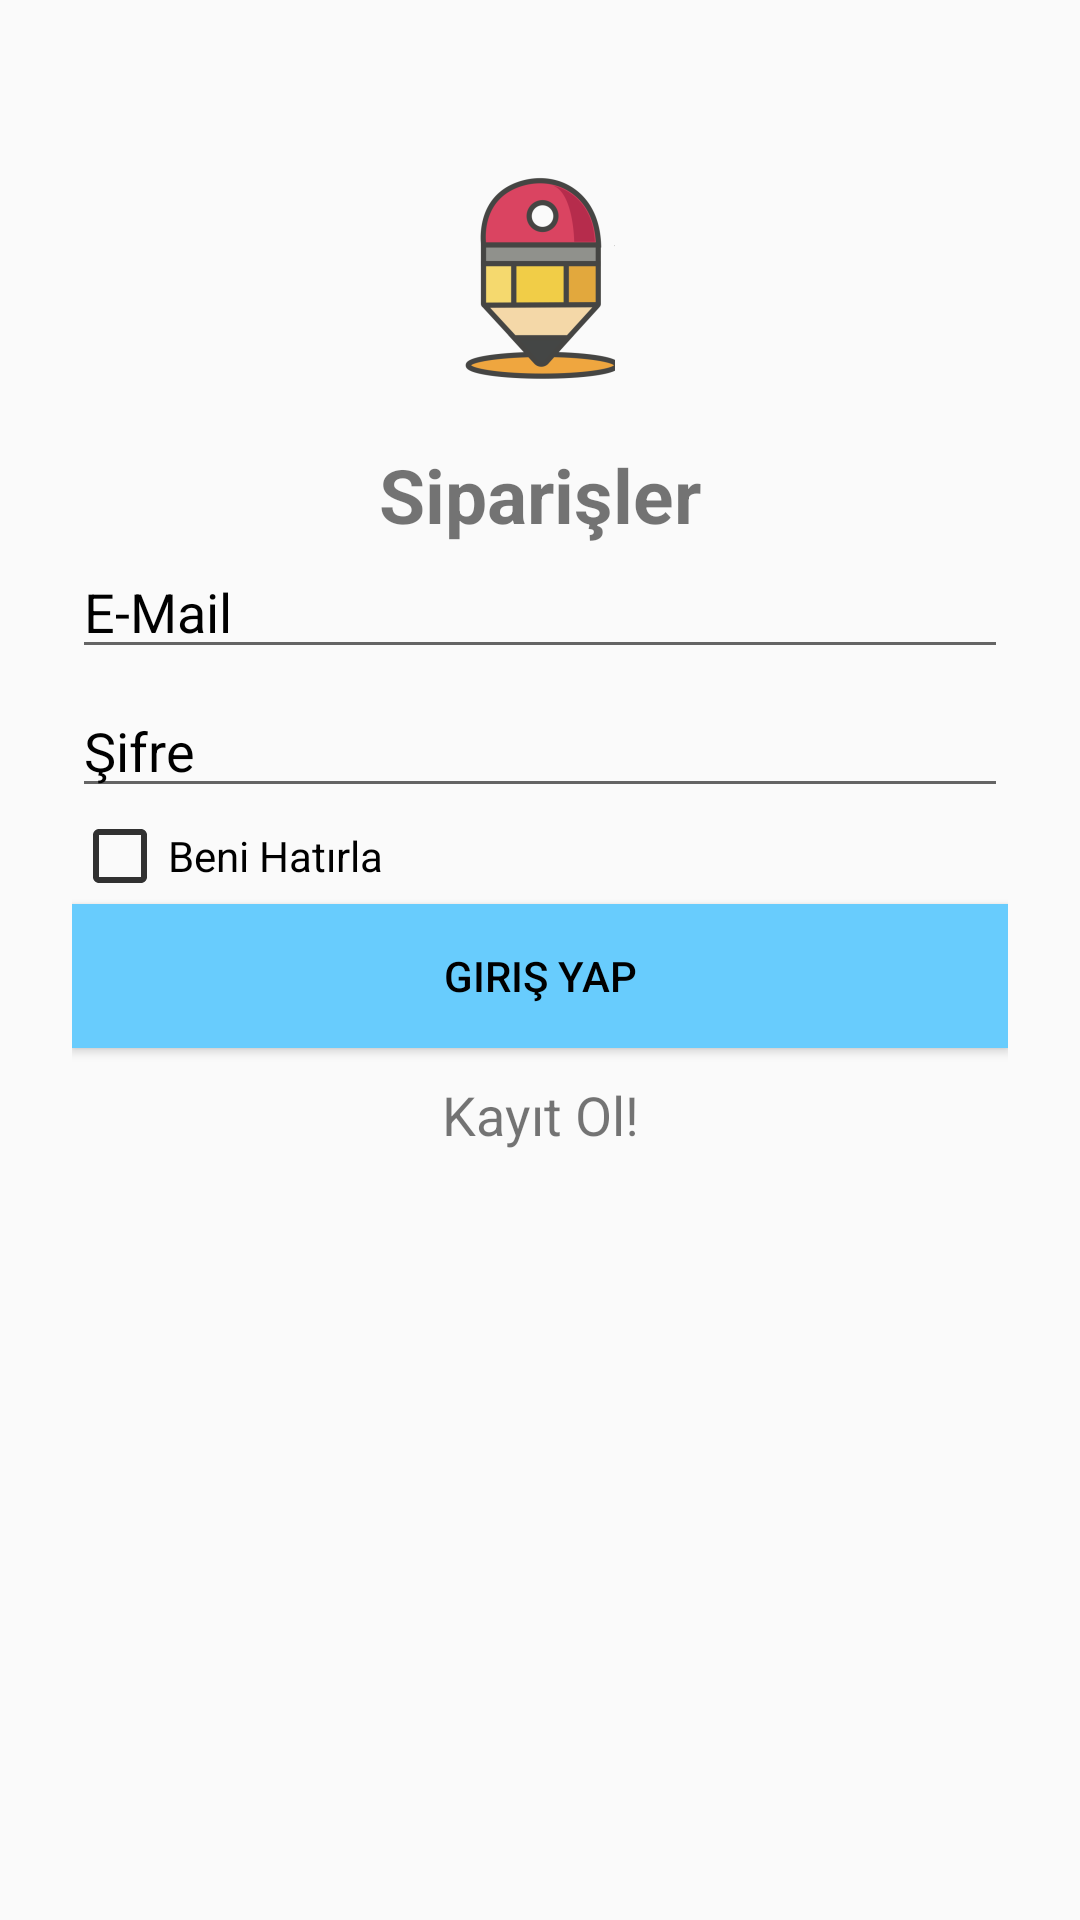

Named icons in this screenshot (1080*1920) and their centers, (x,y):
pencil location: (540,278)
